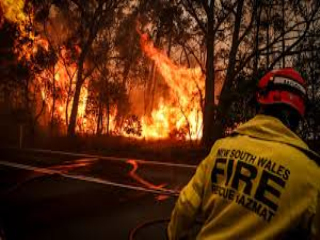fire: (20, 28, 123, 138), (125, 27, 217, 147)
